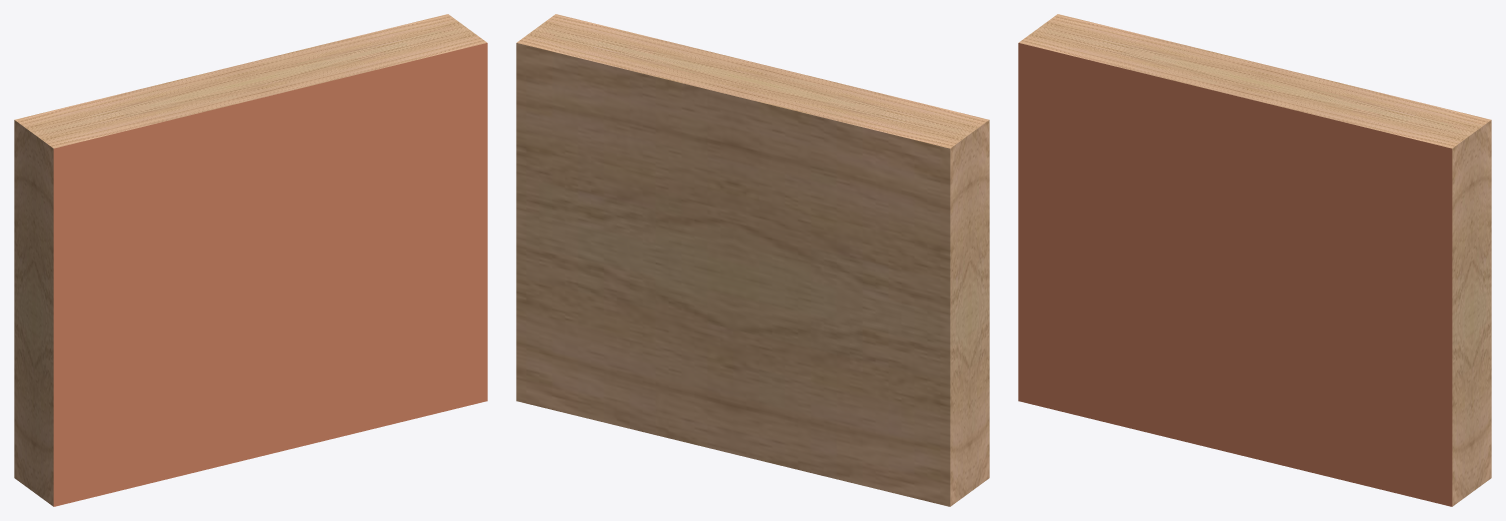
3 views of the same model, side by side, from view 1: azimuth 30°, elevation 25°; view 2: azimuth 150°, elevation 25°; view 3: azimuth 330°, elevation 25° (orthographic).
Parts seen in each view (by area): view 1: Cube.022; view 2: Cube.022; view 3: Cube.022.
Part boxes in pixels (x1,y1,x2,y2): Cube.022: (14, 14, 487, 506); Cube.022: (516, 14, 989, 506); Cube.022: (1018, 14, 1491, 506).
Bounding box in the file's own units: 0.3369 × 0.266 × 0.053.
2 materials, 1 textured.
